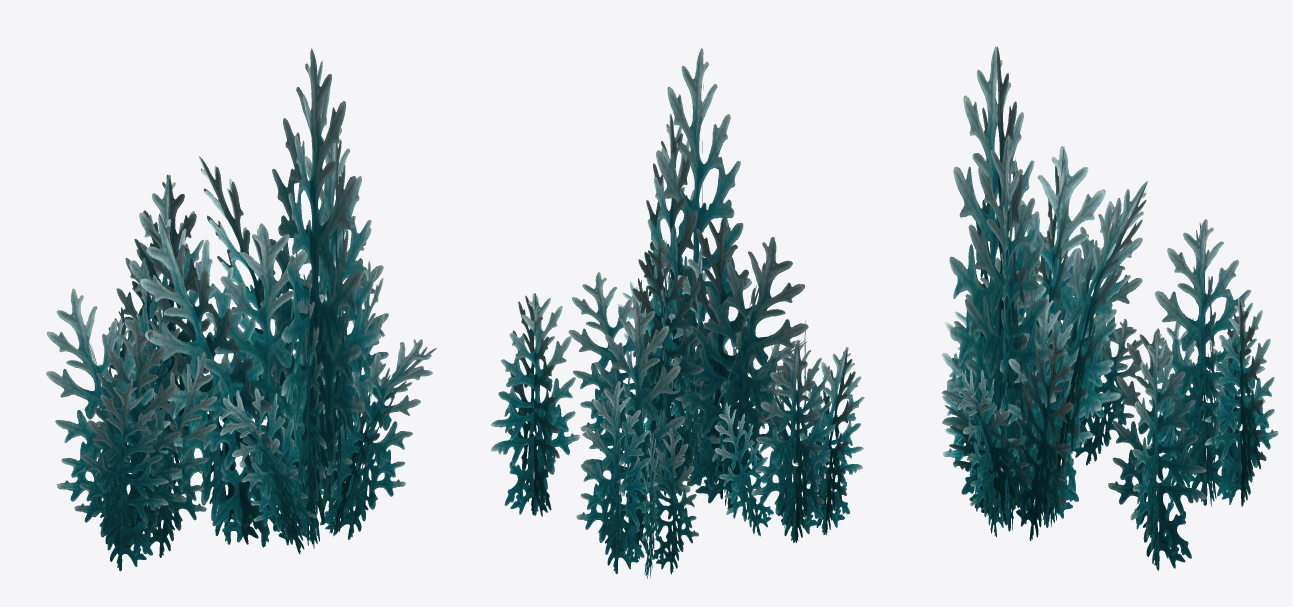
Rendered from S_Plant_Blue002.FBX.
3 renders of one model, left to right at view 1: azimuth 30°, elevation 25°; view 2: azimuth 150°, elevation 25°; view 3: azimuth 270°, elevation 25°, orthographic. The views are drawn at different scales.
Visible parts, largest first — view 1: S_Plant_Blue002; view 2: S_Plant_Blue002; view 3: S_Plant_Blue002.
Boxes of the visible parts, x1,y1,x2,y2 form: S_Plant_Blue002: (46,48,436,571); S_Plant_Blue002: (491,48,864,578); S_Plant_Blue002: (941,46,1278,570).
Size of the model in its own units: 399 by 358 by 534.
